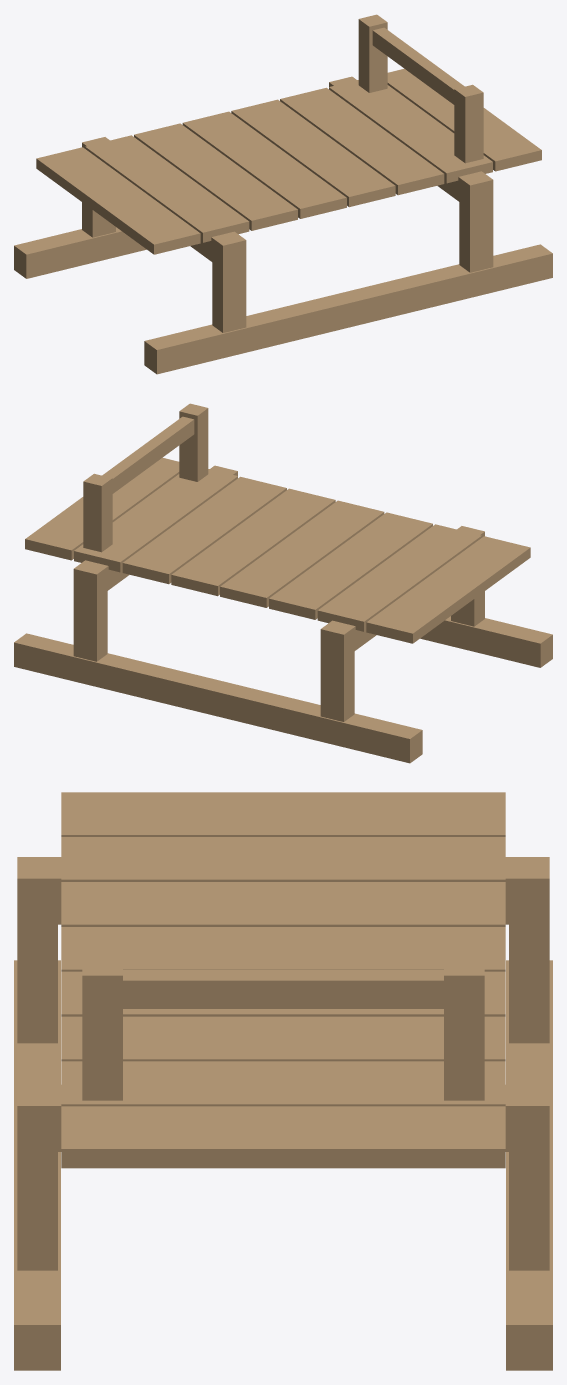
The model's file is sled.fbx.
3 views of the same model, one above another, from view 1: azimuth 30°, elevation 25°; view 2: azimuth 150°, elevation 25°; view 3: azimuth 270°, elevation 25° (orthographic). The views are drawn at different scales.
Visible parts, largest first — view 1: Cube.001, Cube.007, Cube.011, Cube.006, Cube.010; view 2: Cube.001, Cube.007, Cube.011, Cube.006, Cube.010; view 3: Cube.001, Cube.011, Cube.007, Cube.006, Cube.010.
Part boxes in pixels (bbox=[...]): Cube.001: bbox=[36, 68, 541, 254]; Cube.007: bbox=[14, 227, 552, 374]; Cube.011: bbox=[358, 14, 483, 163]; Cube.006: bbox=[82, 137, 246, 332]; Cube.010: bbox=[329, 76, 493, 272]; Cube.001: bbox=[25, 457, 530, 643]; Cube.007: bbox=[14, 616, 552, 763]; Cube.011: bbox=[83, 403, 208, 552]; Cube.006: bbox=[320, 526, 484, 721]; Cube.010: bbox=[73, 465, 237, 661]; Cube.001: bbox=[61, 792, 505, 1168]; Cube.011: bbox=[82, 958, 484, 1100]; Cube.007: bbox=[14, 960, 552, 1370]; Cube.006: bbox=[17, 857, 549, 1043]; Cube.010: bbox=[17, 1084, 549, 1270].
Bounding box in the file's own units: 945 × 419 × 588.
